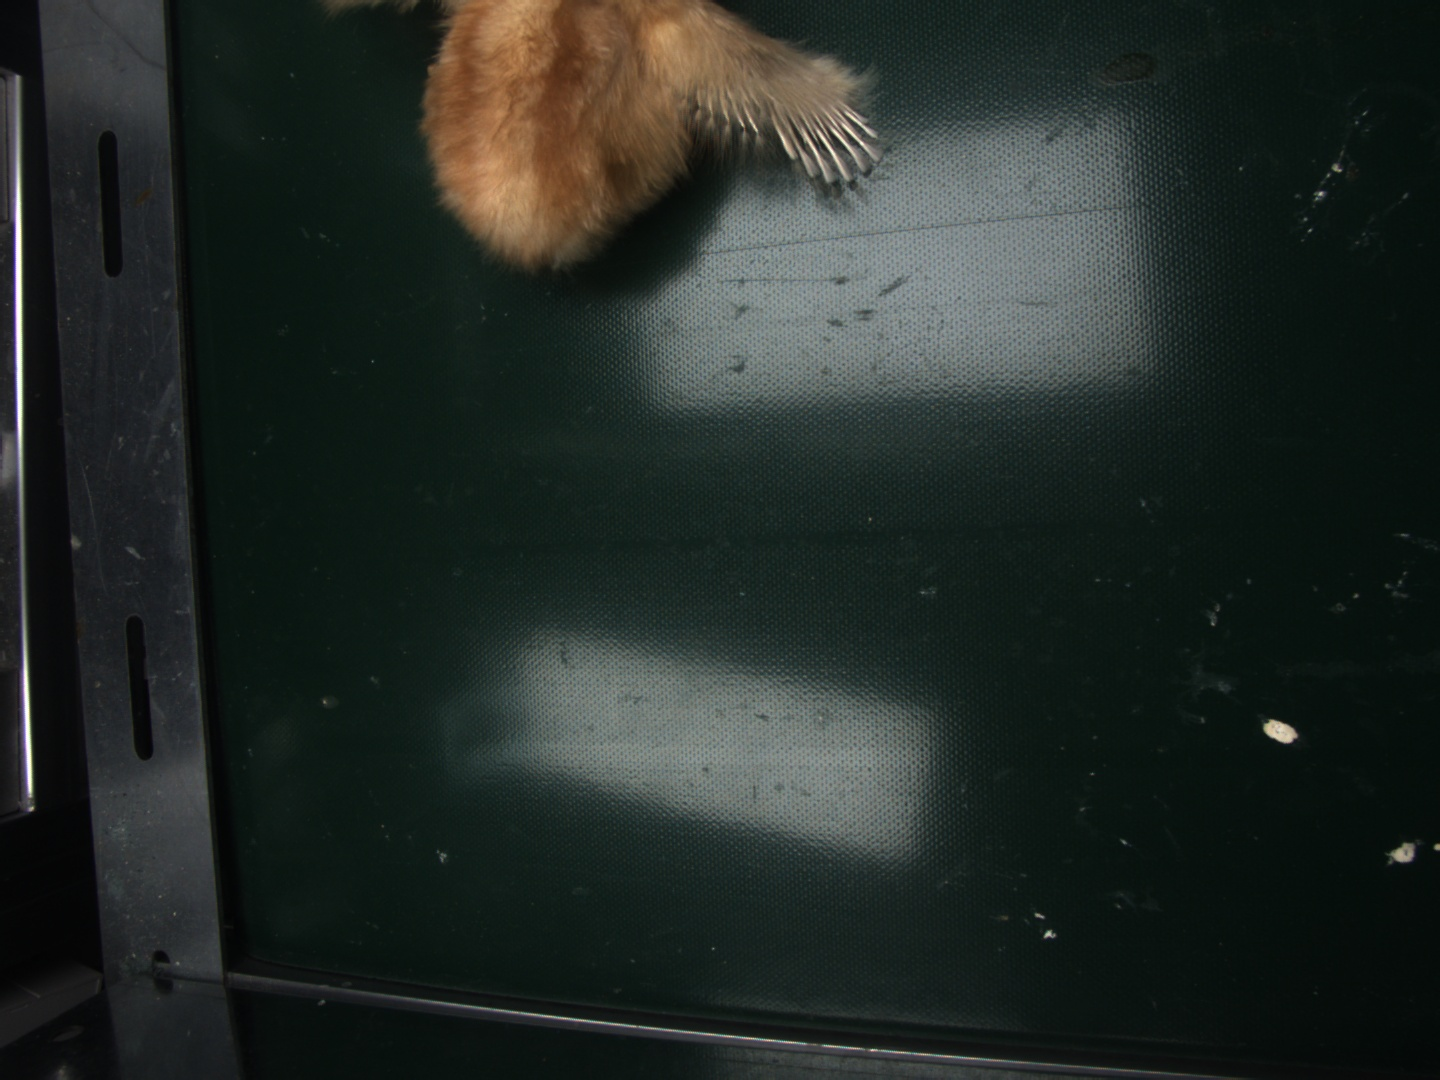female: (773, 94, 886, 189)
